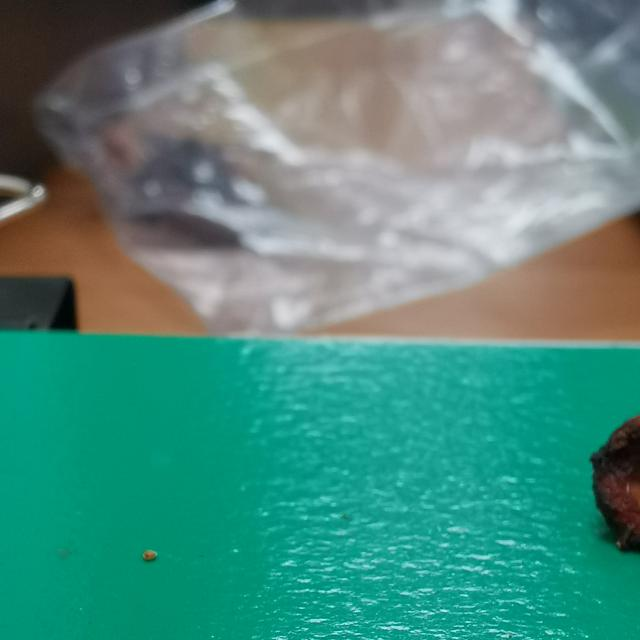Flat_cocoabeans: (548, 357, 640, 593)
